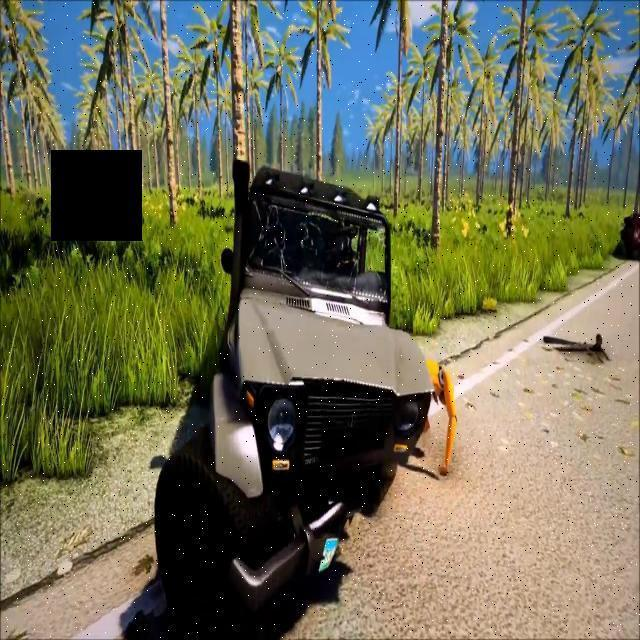multiple_accident: (167, 119, 441, 605)
